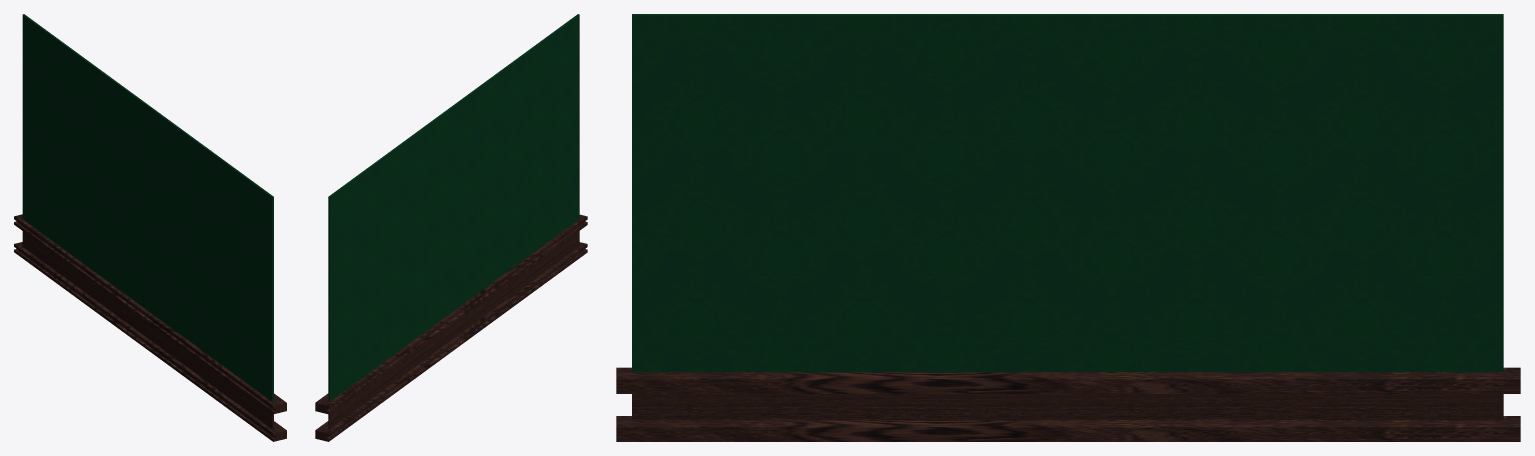
File: Environment_WallpaperWall_Green.glb
3 renders of one model, left to right at view 1: azimuth 30°, elevation 25°; view 2: azimuth 150°, elevation 25°; view 3: azimuth 270°, elevation 25°, orthographic. The views are drawn at different scales.
Visible parts, largest first — view 1: Wall F, Wall F.001, Cube.013, Cube.010; view 2: Wall F, Wall F.001, Cube.013, Cube.010; view 3: Wall F, Wall F.001, Cube.013, Cube.010.
Part boxes in pixels (x1,y1,x2,y2): Wall F: (22, 14, 273, 401); Wall F.001: (22, 231, 273, 429); Cube.013: (14, 214, 286, 414); Cube.010: (14, 242, 286, 441); Wall F: (328, 14, 579, 401); Wall F.001: (328, 231, 579, 428); Cube.013: (315, 214, 587, 414); Cube.010: (315, 242, 587, 441); Wall F: (632, 14, 1503, 372); Wall F.001: (632, 394, 1503, 420); Cube.013: (616, 367, 1520, 393); Cube.010: (616, 416, 1520, 441).
Size of the model in its own units: 1.16 by 19.65 by 38.39.
3 materials, 3 textured.
